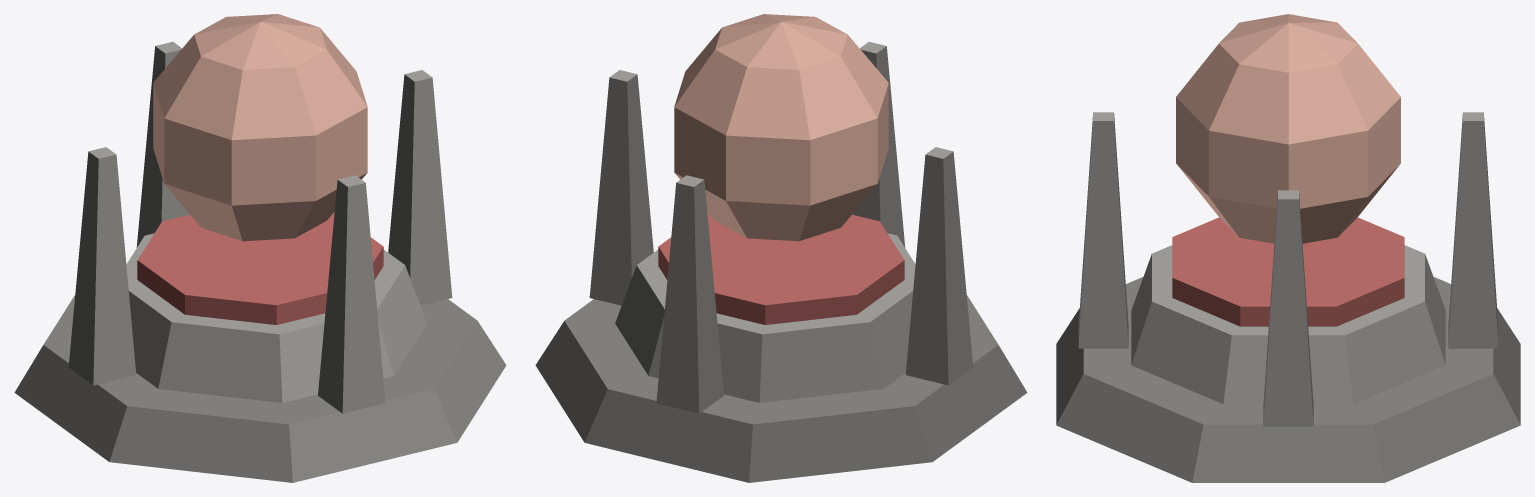
The model's file is inhibitor_red.glb.
The picture shows the model from 3 angles, left to right: view 1: azimuth 30°, elevation 25°; view 2: azimuth 150°, elevation 25°; view 3: azimuth 270°, elevation 25°; orthographic projection.
Size of the model in its own units: 3.14 by 2.7 by 3.14.
